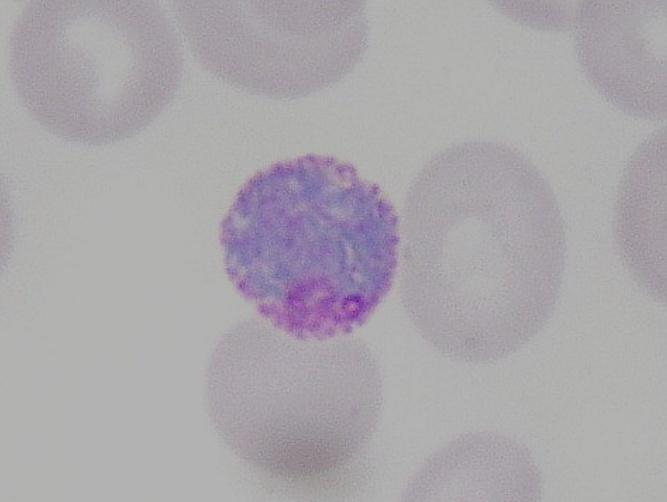Infected: (222, 158, 399, 335)
Uninfected: (408, 140, 562, 361), (211, 318, 381, 478), (9, 0, 184, 144)
